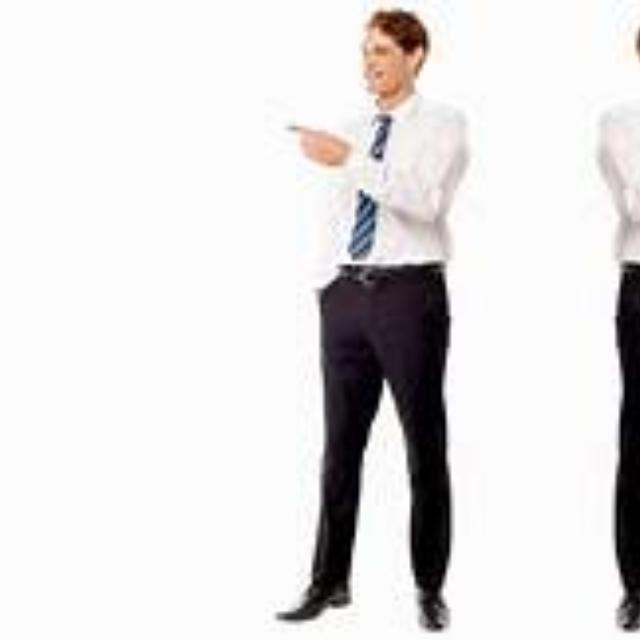person: (251, 3, 533, 640), (533, 3, 640, 640)
